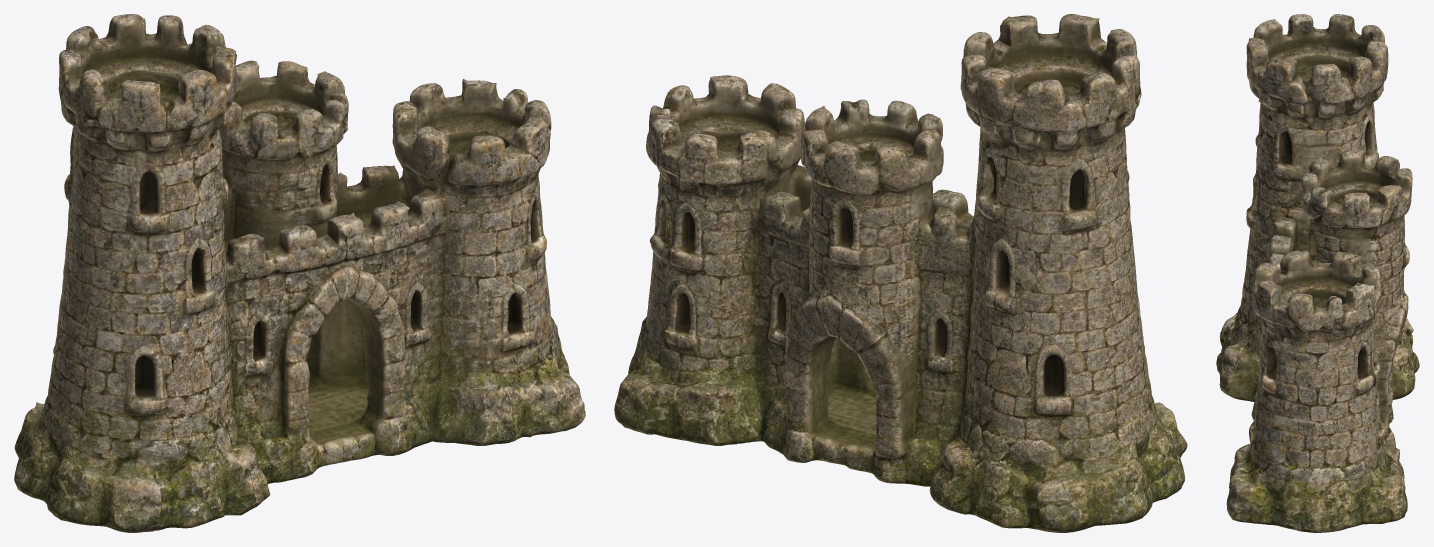
Rendered from medieval+castle+3d+model.glb.
3 renders of one model, left to right at view 1: azimuth 30°, elevation 25°; view 2: azimuth 150°, elevation 25°; view 3: azimuth 270°, elevation 25°, orthographic. The views are drawn at different scales.
Visible parts, largest first — view 1: tripo_node_80050028-6315-4059-8830-7911e3f10a56; view 2: tripo_node_80050028-6315-4059-8830-7911e3f10a56; view 3: tripo_node_80050028-6315-4059-8830-7911e3f10a56.
Boxes of the visible parts, x1,y1,x2,y2 form: tripo_node_80050028-6315-4059-8830-7911e3f10a56: (14,14,585,532); tripo_node_80050028-6315-4059-8830-7911e3f10a56: (614,14,1187,532); tripo_node_80050028-6315-4059-8830-7911e3f10a56: (1216,14,1419,532).
Size of the model in its own units: 0.9959 by 0.7828 by 0.4274.
1 material, 1 textured.
